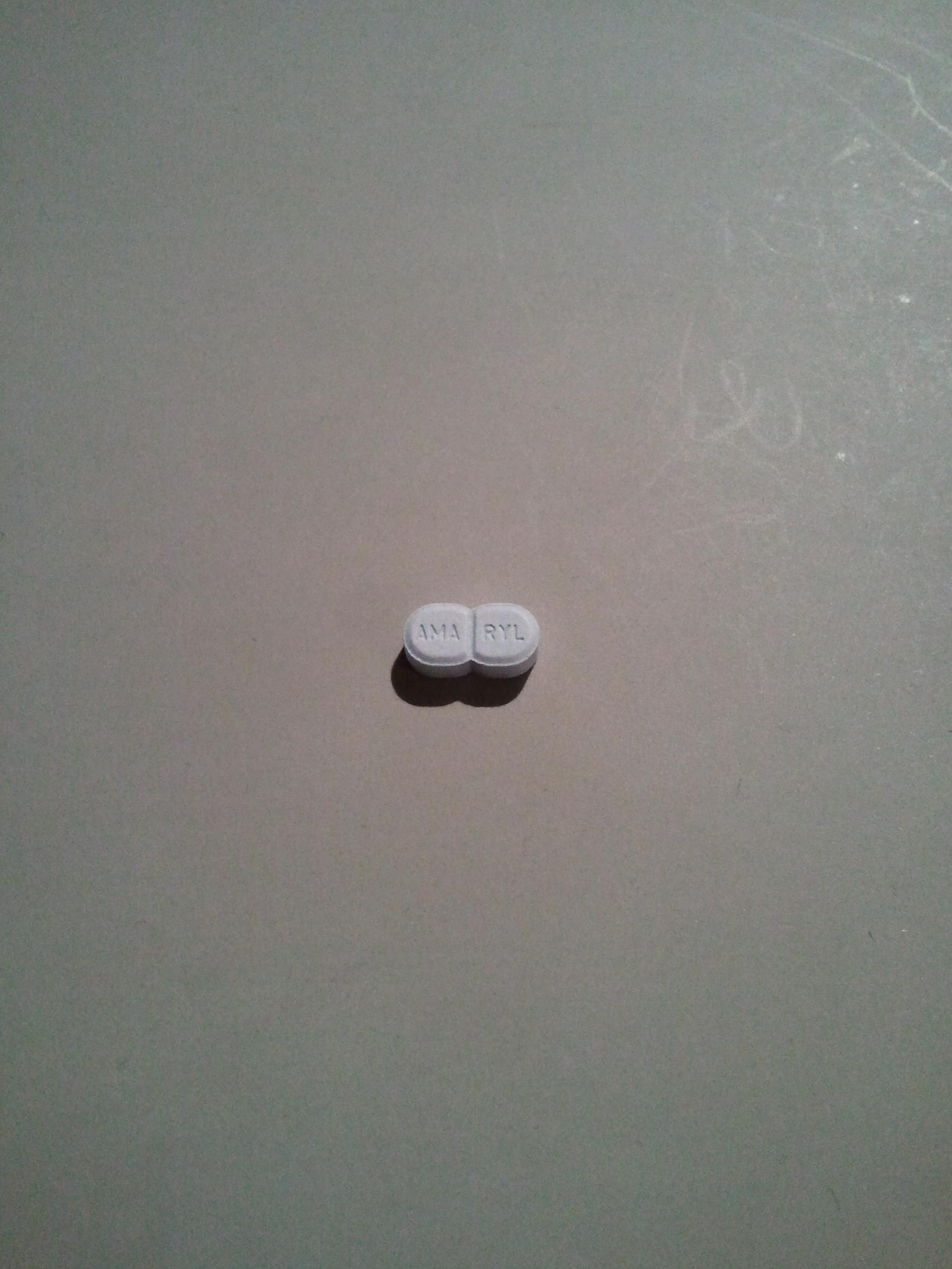Pill: (359, 563, 567, 718)
